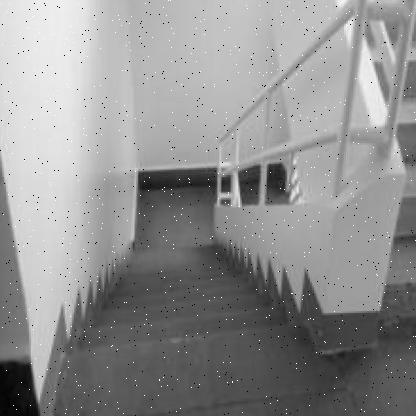stair_down: (74, 268, 278, 360)
